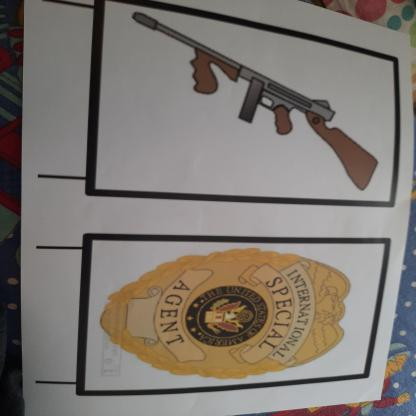Bootlegger: (122, 5, 395, 197)
G-man: (93, 242, 368, 386)
